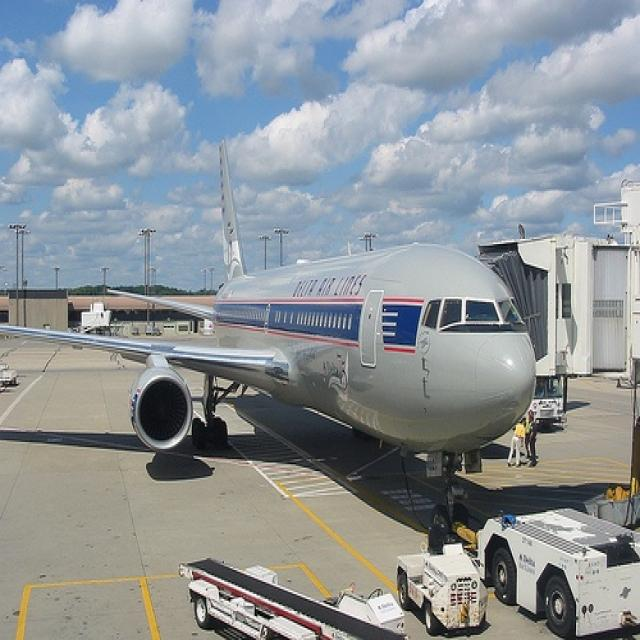aeroplane: (2, 138, 539, 541)
